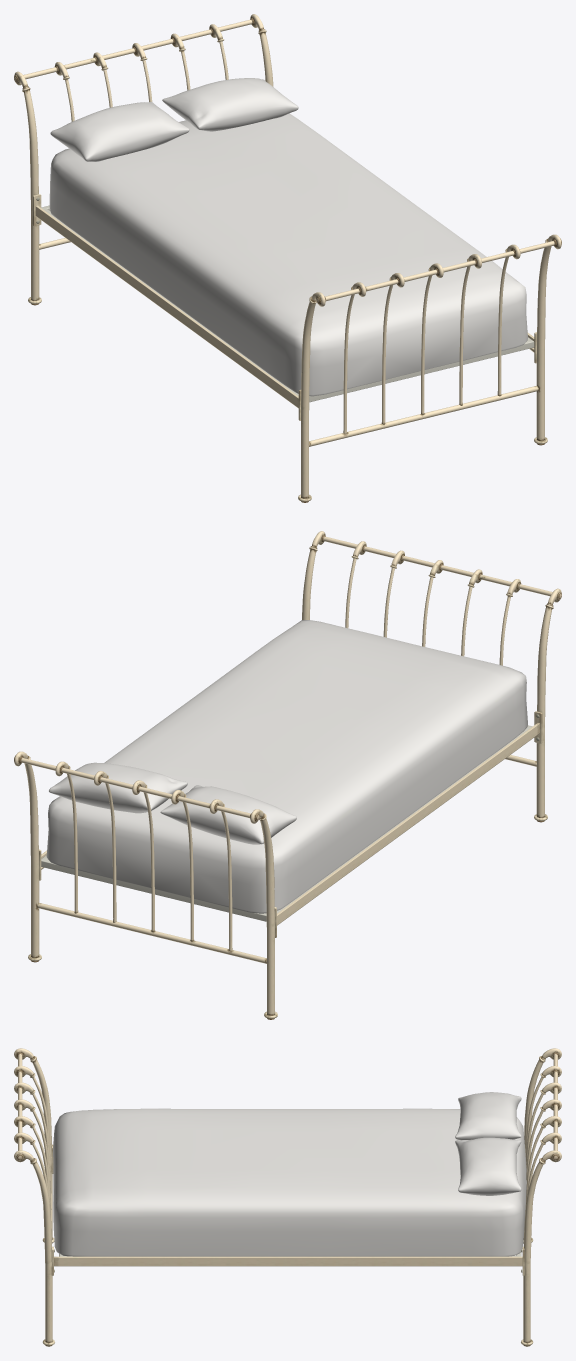
File: abo-B075QDV39J.glb
3 views of the same model, one above another, from view 1: azimuth 30°, elevation 25°; view 2: azimuth 150°, elevation 25°; view 3: azimuth 270°, elevation 25° (orthographic). The views are drawn at different scales.
Bounding box in the file's own units: 1.03 × 0.8729 × 2.23.
Materials: 1 (1 with a texture image).
